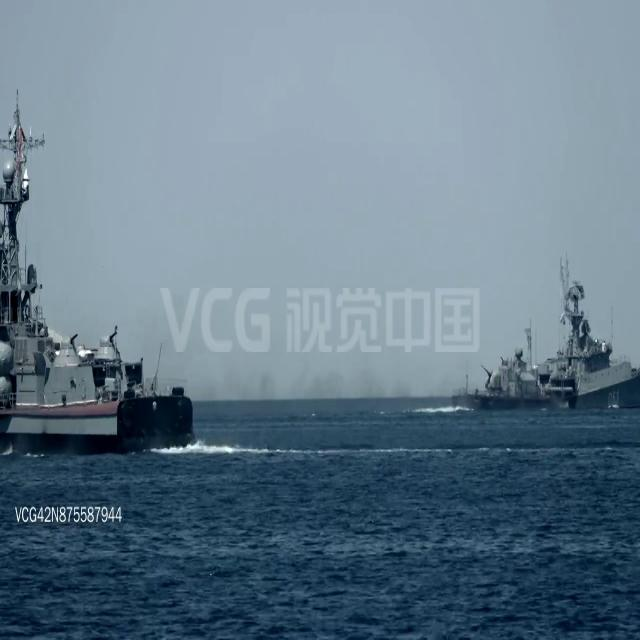houseboat: (452, 358, 555, 412)
sailboat: (0, 83, 197, 460), (523, 246, 640, 412)
